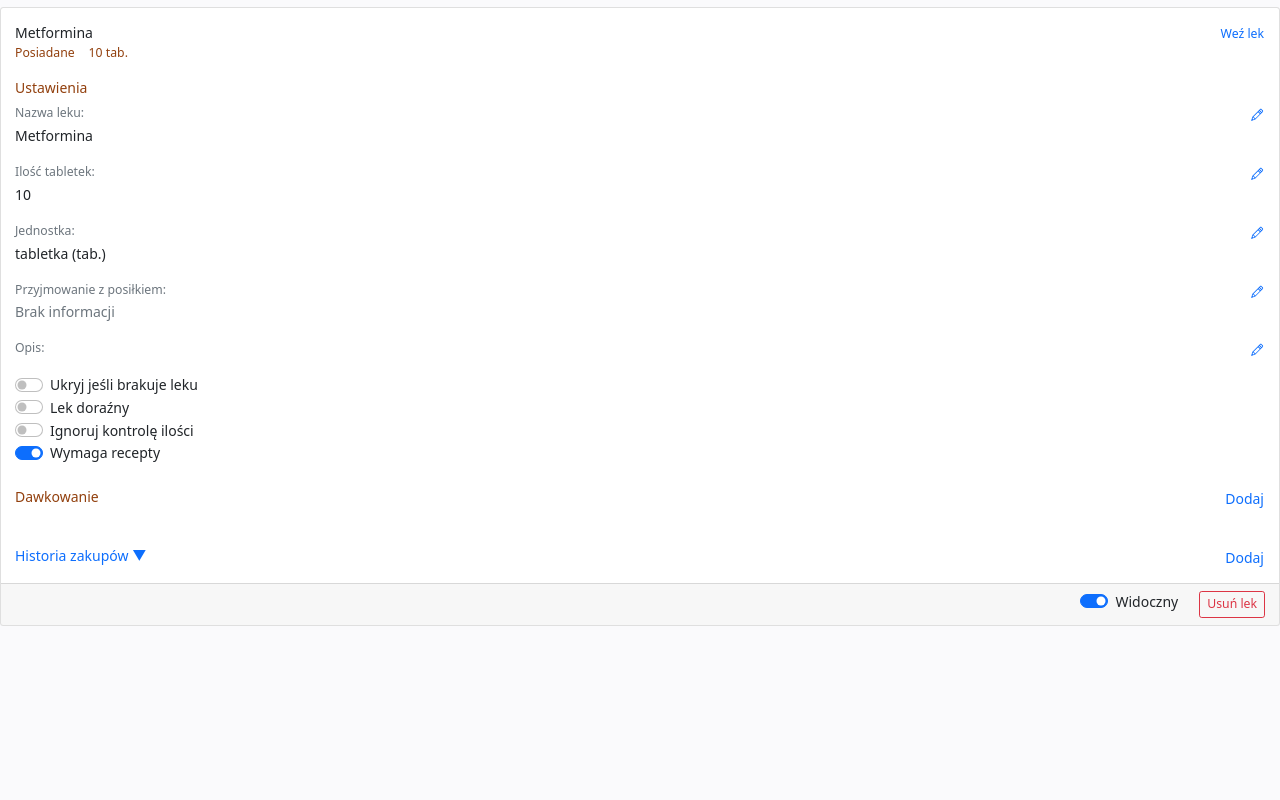
Scenario: MedicineCard rename › does not save the name of another medicine and lists similar ones
The width and height of the screenshot is (1280, 800).
Click the button without text in the row of "Nazwa leku" at (1257, 114), box [1249,102,1265,125]
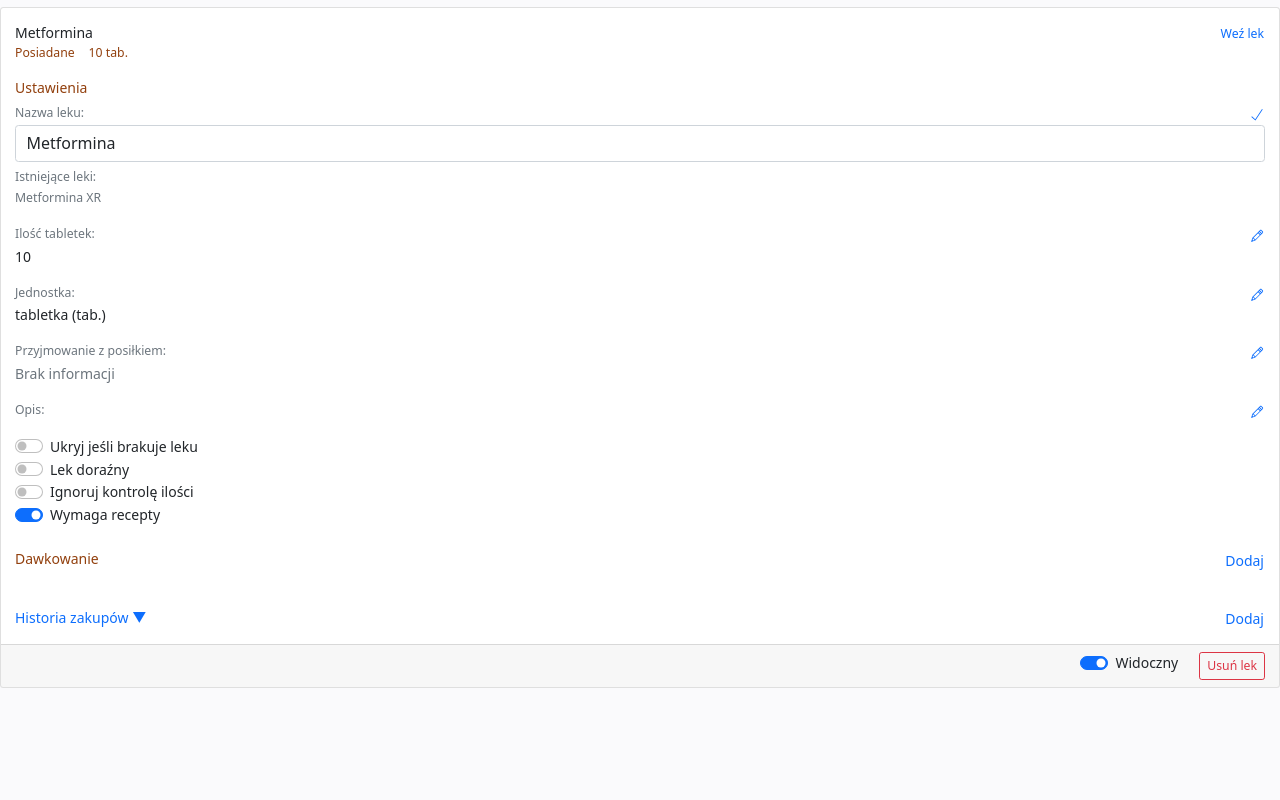
Replace the text in the field showing "Metformina" with "Metformina X" at (640, 143), box [15,125,1265,162]
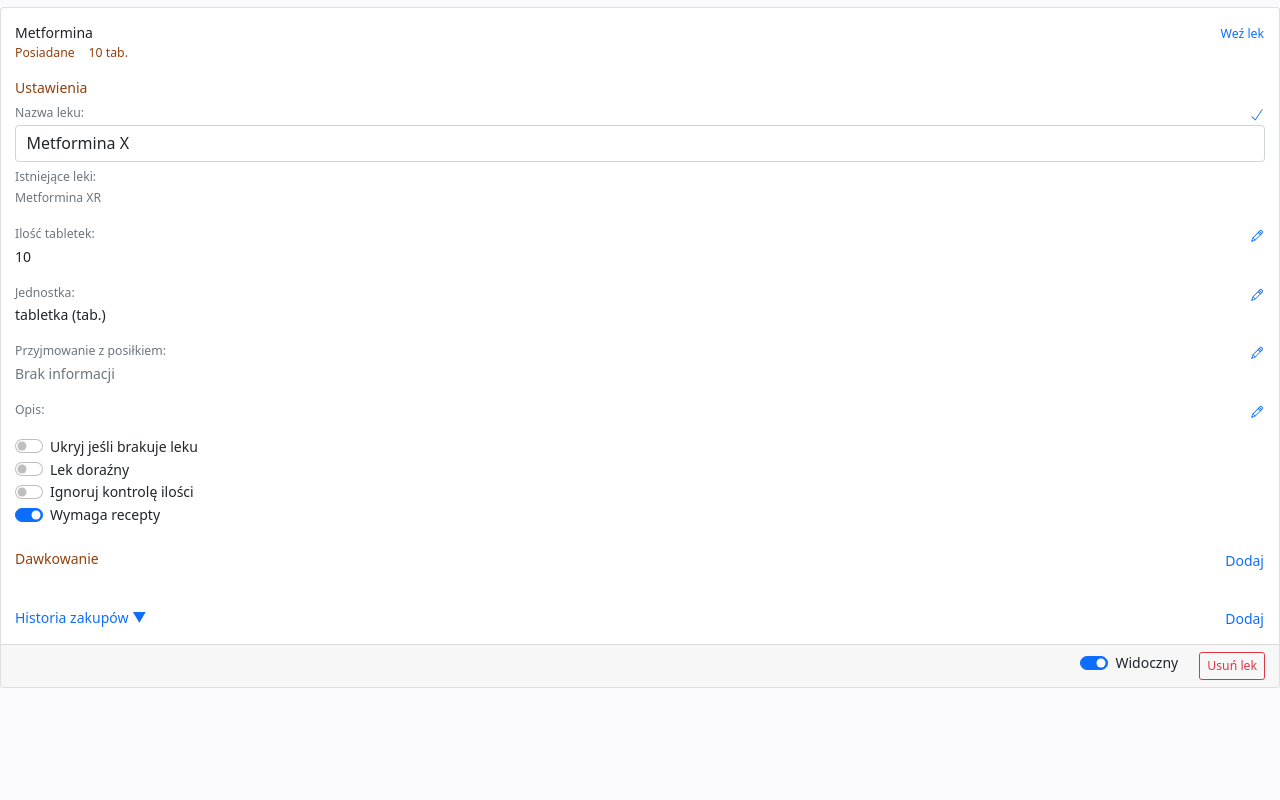
Replace the text in the field showing "Metformina" with "metformina xr " at (640, 143), box [15,125,1265,162]
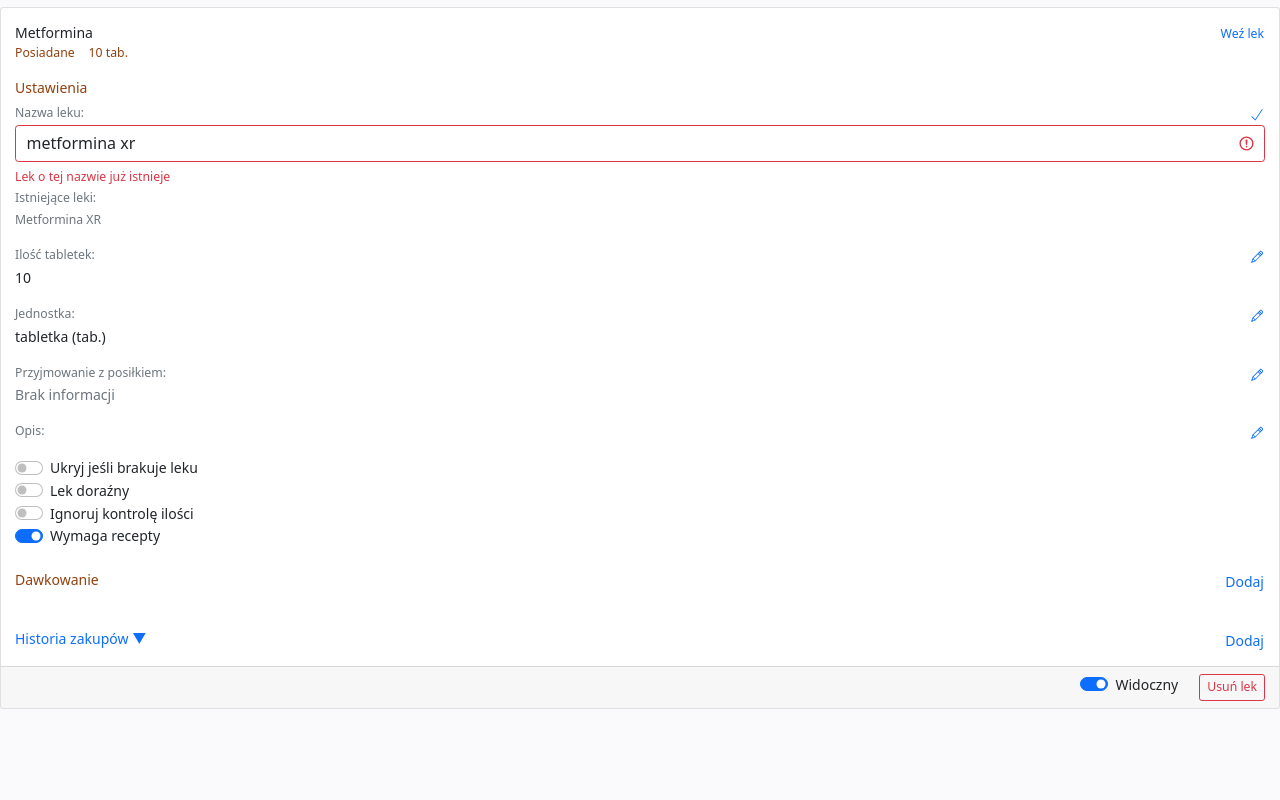
Check: the text "Metformina XR" is shown, box [15,211,101,228]
Check: the text "Lek o tej nazwie już istnieje" is shown, box [15,168,170,185]
